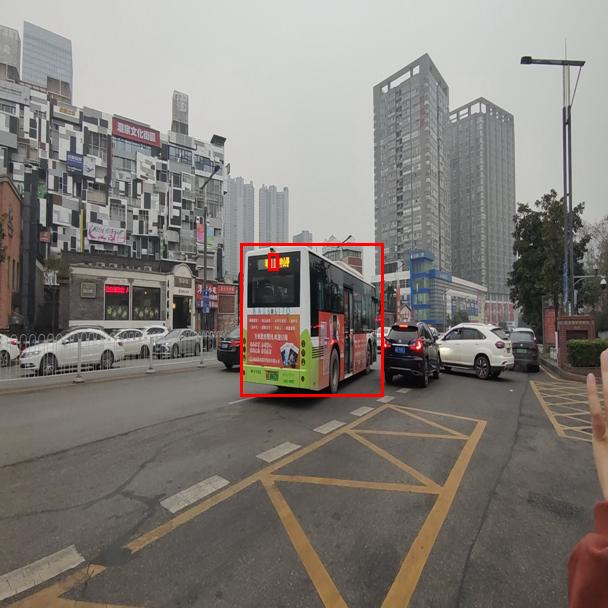bus: (240, 243, 383, 396)
screen: (268, 253, 278, 270)
